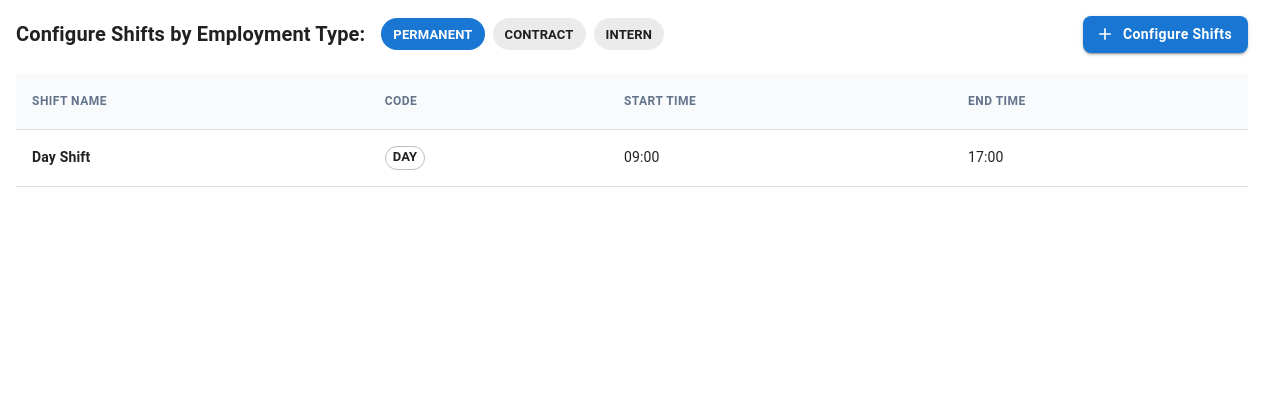
Test: blocks invalid shifts and confirms before discarding changes or switching types
This screenshot has width=1266, height=396.
Expected: the text "Day Shift" is shown, top-left (32, 150), bottom-right (90, 166)
Click the button "Configure Shifts": x=1166, y=34 top-left (1083, 16), bottom-right (1248, 52)
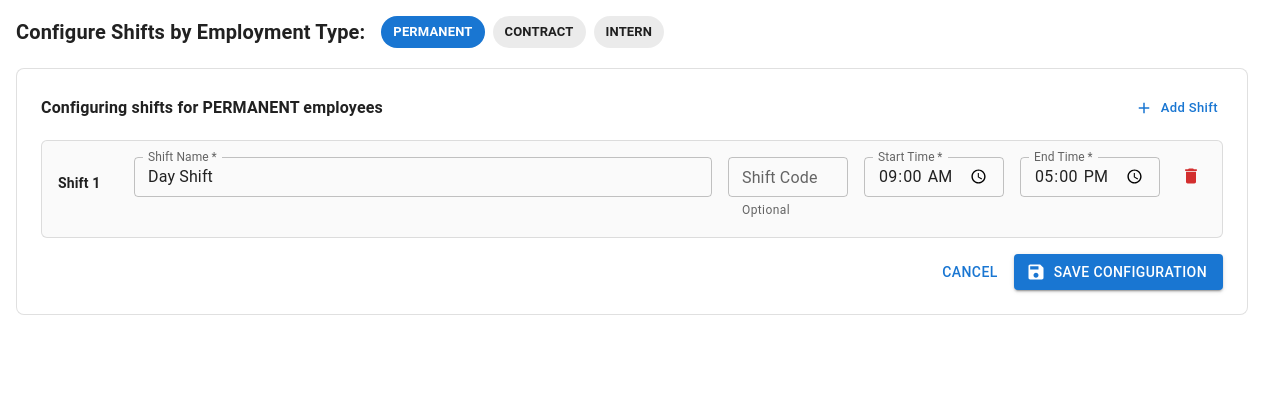
Clear the field with placeholder "e.g. Morning Shift": x=423, y=177 top-left (134, 157), bottom-right (712, 197)
Click the button "Save Configuration": x=1118, y=272 top-left (1014, 254), bottom-right (1223, 290)
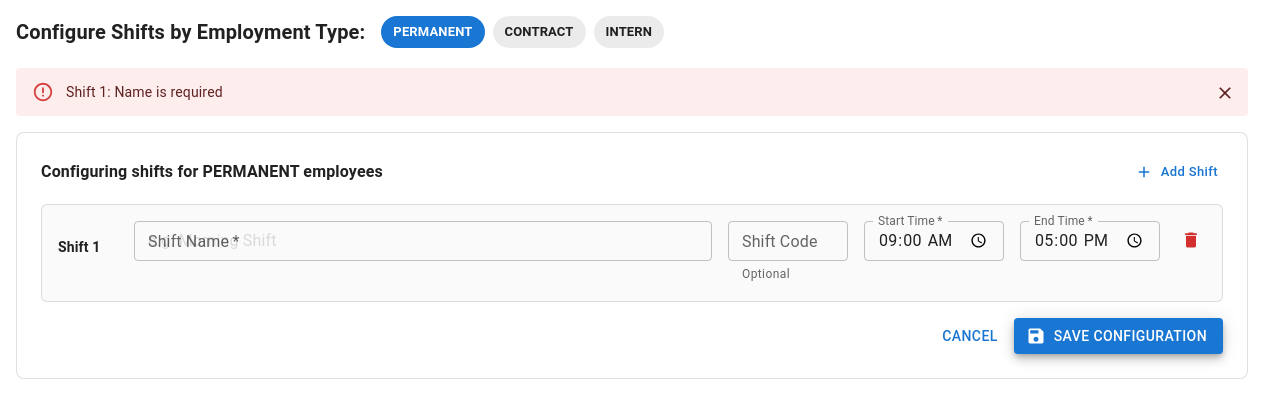
Now the text "Shift 1: Name is required" is shown, box top-left (66, 84), bottom-right (223, 100)
Click the button "INTERN": x=629, y=32 top-left (594, 16), bottom-right (664, 48)
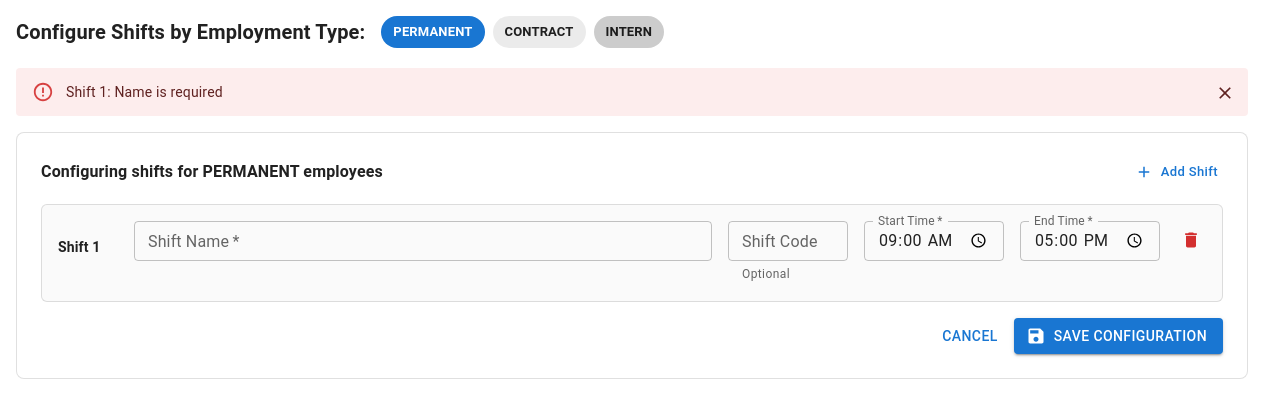
Now the heading "Configuring shifts for PERMANENT employees" is shown, box top-left (41, 158), bottom-right (383, 186)
Click the button "INTERN": x=629, y=32 top-left (594, 16), bottom-right (664, 48)
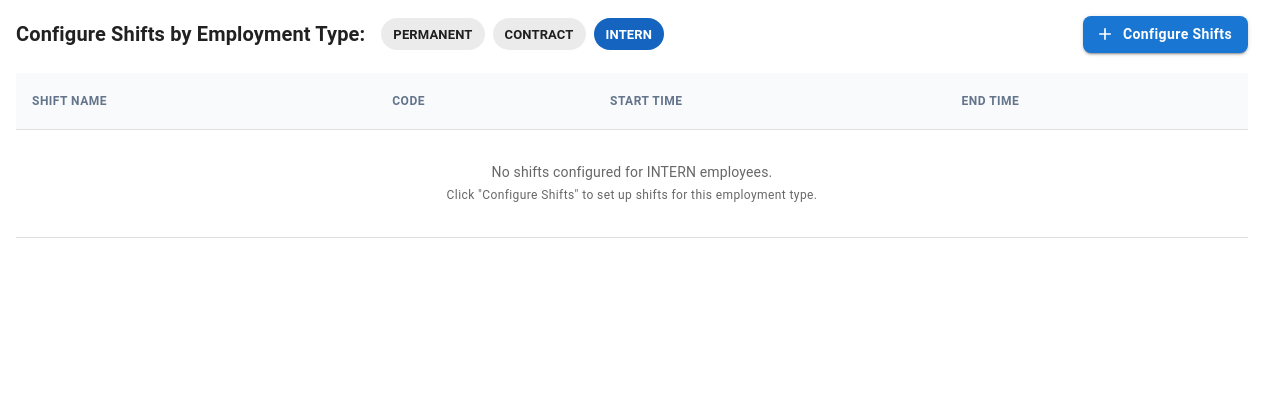
Now the text "No shifts configured for INTERN employees." is shown, box top-left (492, 164), bottom-right (772, 180)
Click the button "Configure Shifts": x=1166, y=34 top-left (1083, 16), bottom-right (1248, 52)
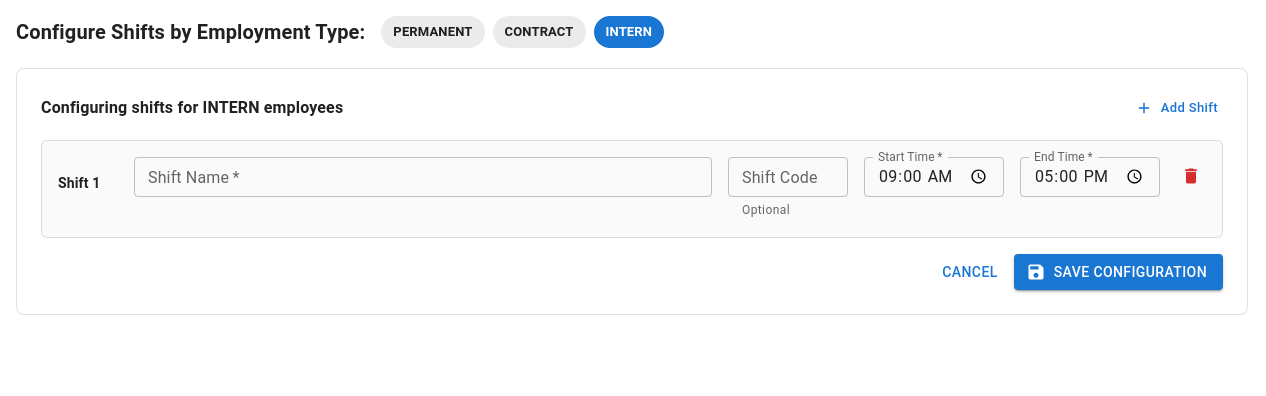
Click the button "Cancel": x=970, y=272 top-left (934, 254), bottom-right (1006, 290)
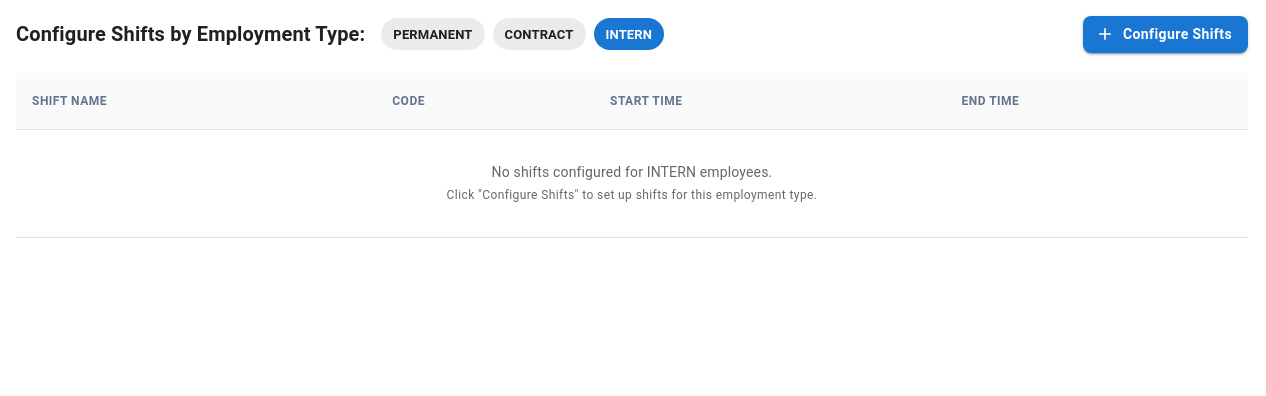
Now the button "Configure Shifts" is shown, box top-left (1083, 16), bottom-right (1248, 52)
